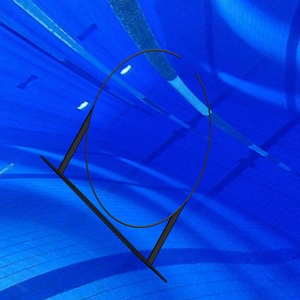circle: (40, 48, 214, 284)
